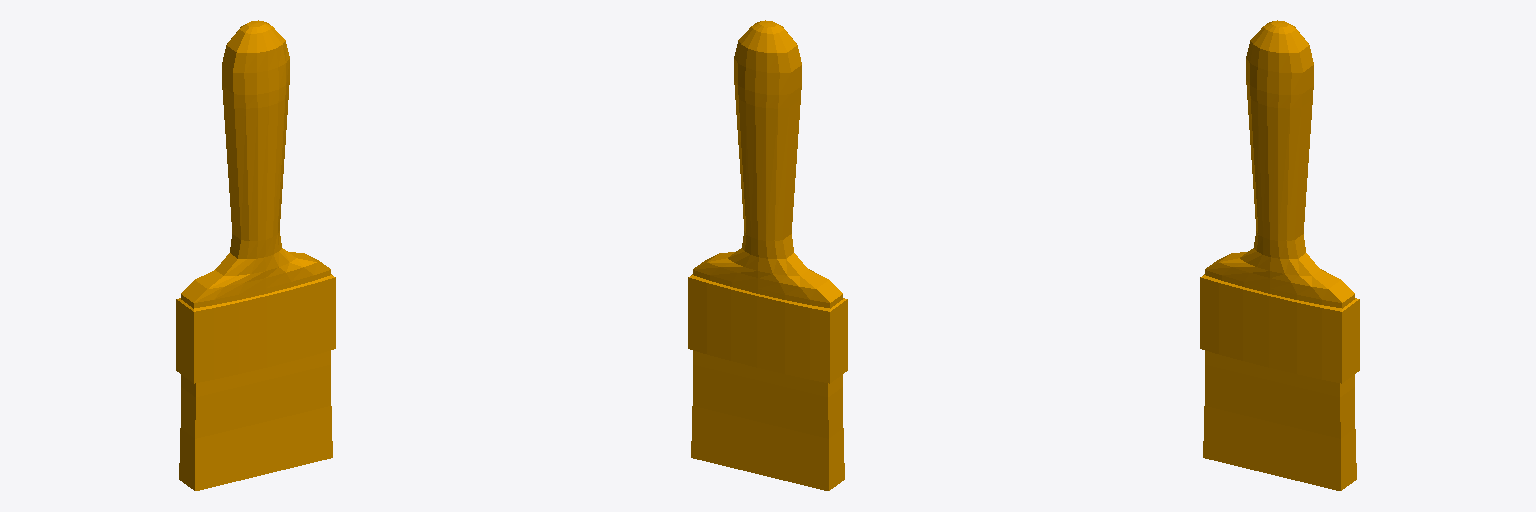
The robot description file, URDF, robot "brush":
<robot name="brush">
  <link name="brush">
    <collision>
      <geometry>
        <mesh filename="brush.stl" scale="0.009 0.009 0.009" />
      </geometry>
    </collision>
    <visual>
      <geometry>
        <mesh filename="brush.stl" scale="0.009 0.009 0.009" />
      </geometry>
    </visual>
  </link>
</robot>

--- Facts derived from the render (not from the file) ---
Views: 3 orthographic renders of the robot side by side, from view 1: azimuth 30°, elevation 25°; view 2: azimuth 150°, elevation 25°; view 3: azimuth 330°, elevation 25°.
Robot: brush — 1 links, 0 joints (none); root link brush; default pose: all joints at 0.
Links seen in each view (by area): view 1: brush; view 2: brush; view 3: brush.
Link boxes in pixels (box(x1,y1,x2,y2)): brush: box(176, 20, 335, 490); brush: box(688, 20, 847, 490); brush: box(1200, 20, 1359, 490).
Bounding box of the posed robot: 0.0508 × 0.016 × 0.1525 m (x, y, z).
Meshes: 1 distinct files referenced, 1 mesh visuals loaded (1 binary STL).